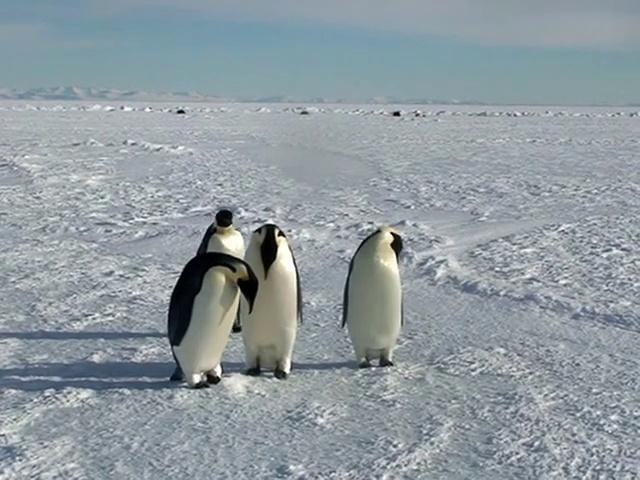animal: (344, 227, 405, 368)
